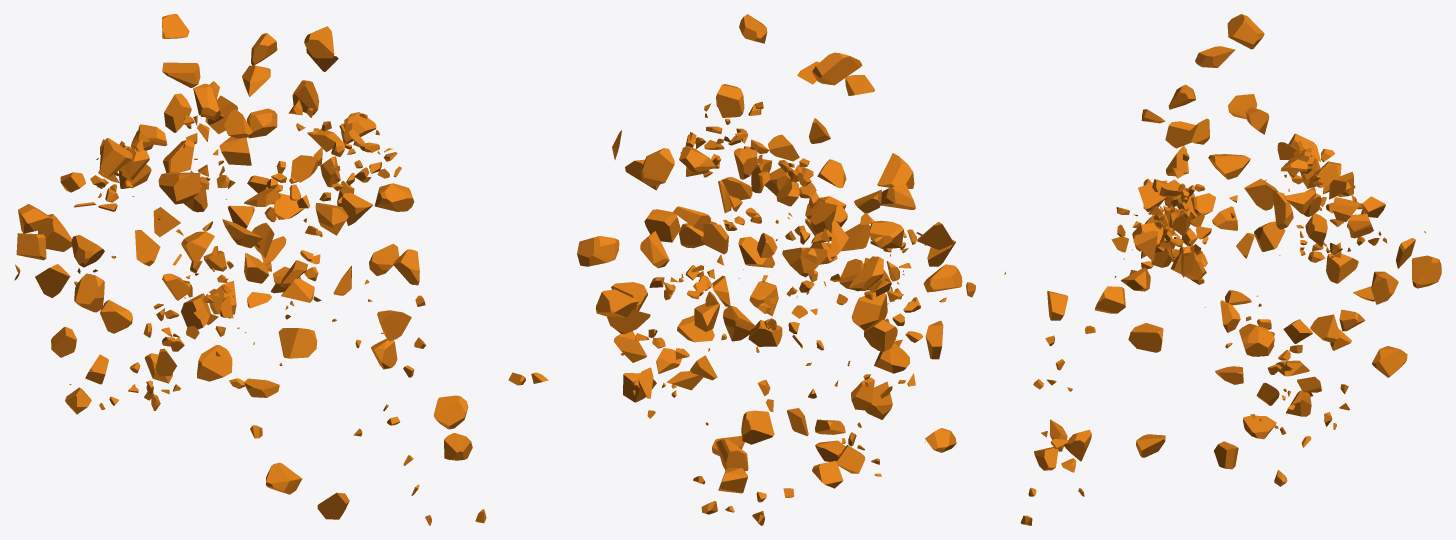
File: Explode_Cube.f0009.glb
3 renders of one model, left to right at view 1: azimuth 30°, elevation 25°; view 2: azimuth 150°, elevation 25°; view 3: azimuth 270°, elevation 25°, orthographic. The views are drawn at different scales.
Visible parts, largest first — view 1: Cube.125_cell.081, Cube.125_cell.079, Cube.125_cell.012, Cube.125_cell.004, Cube.125_cell.041, Cube.125_cell.085, Cube.125_cell.087, Cube.125_cell.078, Cube.125_cell.026, Cube.125_cell.025, Cube.125_cell.029, Cube.125_cell.060 (+20 smaller); view 2: Cube.125_cell.003, Cube.125_cell.085, Cube.125_cell.093, Cube.125_cell.033, Cube.125_cell.070, Cube.125_cell.013, Cube.125_cell.014, Cube.125_cell.081, Cube.125_cell.008, Cube.125_cell.067, Cube.125_cell.024, Cube.125_cell.075 (+37 smaller); view 3: Cube.125_cell.085, Cube.125_cell.003, Cube.125_cell.070, Cube.125_cell.056, Cube.125_cell.026, Cube.125_cell.075, Cube.125_cell.023, Cube.125_cell.079, Cube.125_cell.013, Cube.125_cell.001, Cube.125_cell.004, Cube.125_cell.011 (+9 smaller).
Part boxes in pixels (x1=…): Cube.125_cell.081: x1=158, y1=172, x2=200, y2=204; Cube.125_cell.079: x1=278, y1=328, x2=317, y2=358; Cube.125_cell.012: x1=197, y1=345, x2=232, y2=381; Cube.125_cell.004: x1=74, y1=273, x2=104, y2=312; Cube.125_cell.041: x1=433, y1=395, x2=468, y2=429; Cube.125_cell.085: x1=375, y1=183, x2=414, y2=211; Cube.125_cell.087: x1=99, y1=138, x2=132, y2=176; Cube.125_cell.078: x1=266, y1=462, x2=302, y2=494; Cube.125_cell.026: x1=100, y1=300, x2=132, y2=333; Cube.125_cell.025: x1=163, y1=140, x2=194, y2=172; Cube.125_cell.029: x1=304, y1=26, x2=334, y2=58; Cube.125_cell.060: x1=315, y1=203, x2=348, y2=235; Cube.125_cell.003: x1=812, y1=52, x2=862, y2=85; Cube.125_cell.085: x1=577, y1=236, x2=619, y2=266; Cube.125_cell.093: x1=641, y1=148, x2=674, y2=186; Cube.125_cell.033: x1=851, y1=292, x2=887, y2=330; Cube.125_cell.070: x1=741, y1=410, x2=774, y2=444; Cube.125_cell.013: x1=595, y1=289, x2=638, y2=317; Cube.125_cell.014: x1=644, y1=209, x2=680, y2=242; Cube.125_cell.081: x1=877, y1=153, x2=914, y2=188; Cube.125_cell.008: x1=716, y1=84, x2=744, y2=117; Cube.125_cell.067: x1=870, y1=220, x2=903, y2=248; Cube.125_cell.024: x1=864, y1=319, x2=897, y2=351; Cube.125_cell.075: x1=923, y1=264, x2=962, y2=292; Cube.125_cell.085: x1=1239, y1=323, x2=1274, y2=356; Cube.125_cell.003: x1=1227, y1=14, x2=1264, y2=49; Cube.125_cell.070: x1=1412, y1=255, x2=1441, y2=288; Cube.125_cell.056: x1=1128, y1=323, x2=1163, y2=352; Cube.125_cell.026: x1=1372, y1=346, x2=1407, y2=377; Cube.125_cell.075: x1=1208, y1=154, x2=1250, y2=179; Cube.125_cell.023: x1=1326, y1=253, x2=1358, y2=283; Cube.125_cell.079: x1=1095, y1=286, x2=1125, y2=313; Cube.125_cell.013: x1=1371, y1=271, x2=1398, y2=304; Cube.125_cell.001: x1=1244, y1=178, x2=1278, y2=210; Cube.125_cell.004: x1=1254, y1=221, x2=1285, y2=251; Cube.125_cell.011: x1=1195, y1=46, x2=1235, y2=67.
Bounding box in the file's own units: 5.33 × 5.99 × 5.59.
